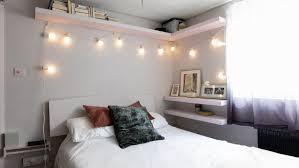light: (39, 25, 58, 42), (40, 61, 60, 74), (112, 33, 124, 51), (136, 41, 148, 56), (168, 41, 178, 58), (94, 33, 104, 49), (212, 38, 225, 50), (63, 32, 72, 47), (189, 47, 198, 61), (214, 69, 227, 78), (158, 42, 164, 55)
sofa: (52, 104, 299, 168)
table: (3, 143, 48, 168)
